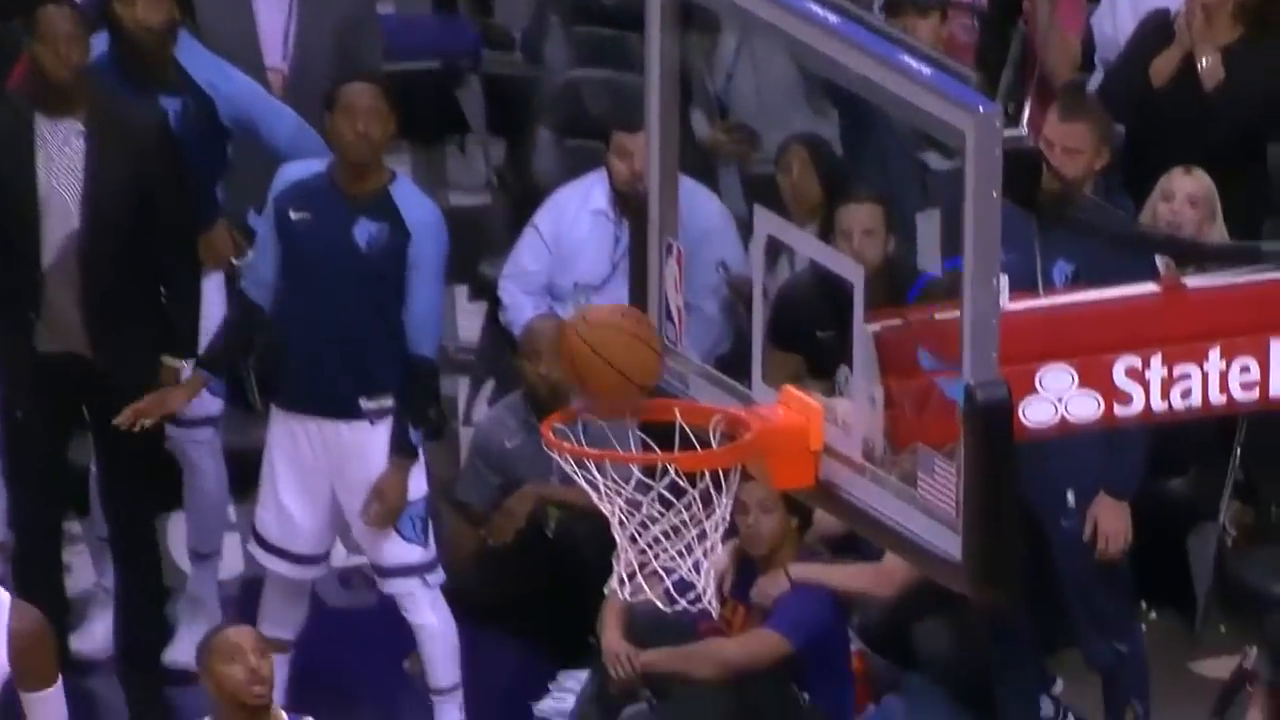ball: (551, 310, 674, 414)
